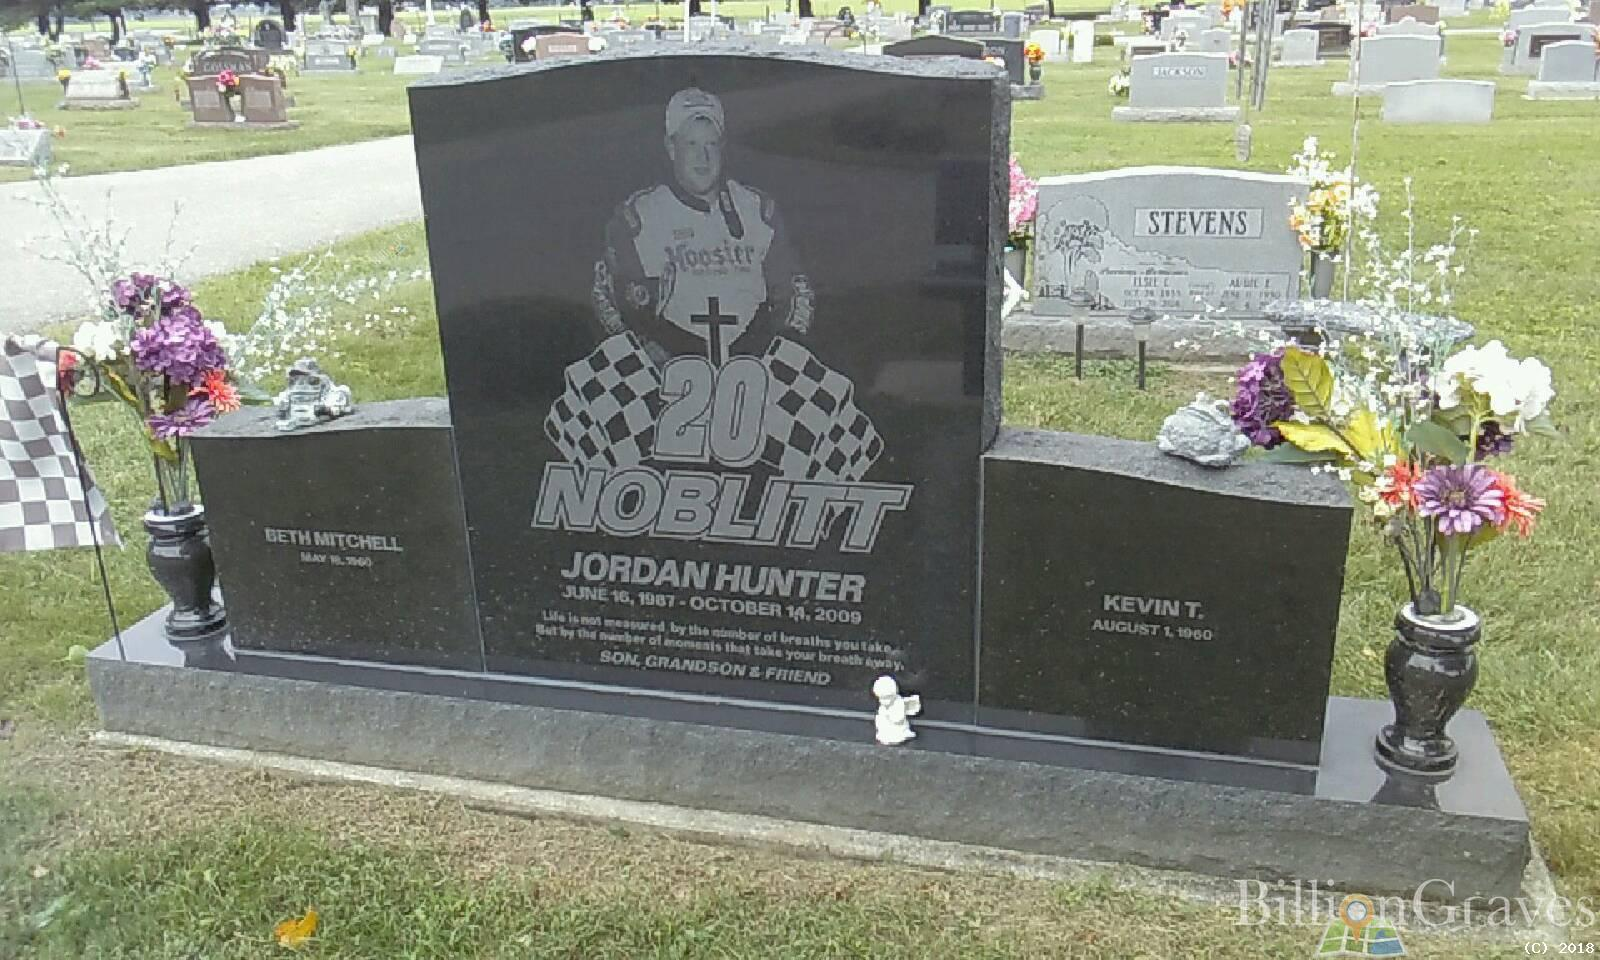upright: (163, 43, 1511, 872)
